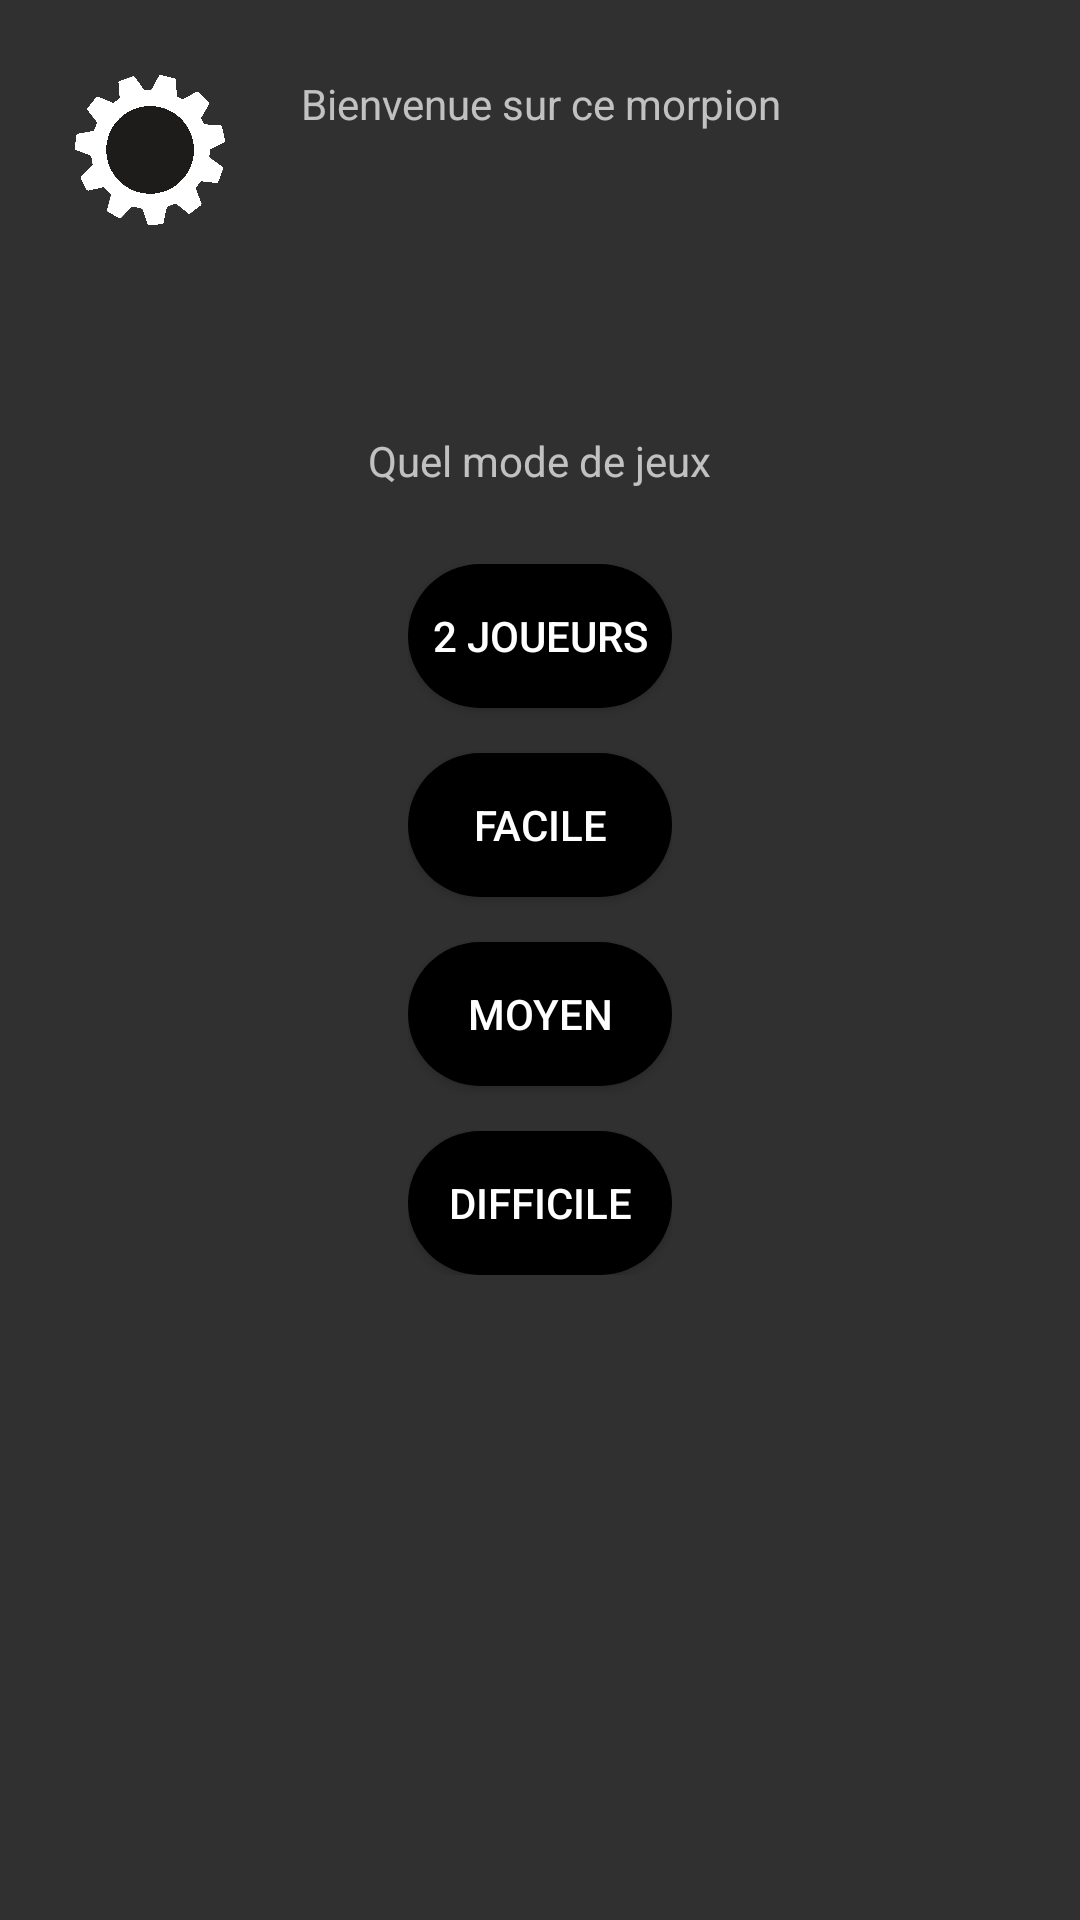

Named icons in this screenshot (1080 × 1920) and their bounding boxes, box=[x1, y1, x2, y2]:
setting: box=[75, 75, 225, 225]
